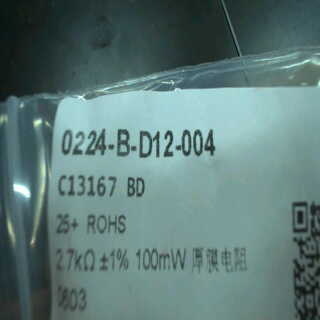2.7kR: (52, 246, 97, 277)
